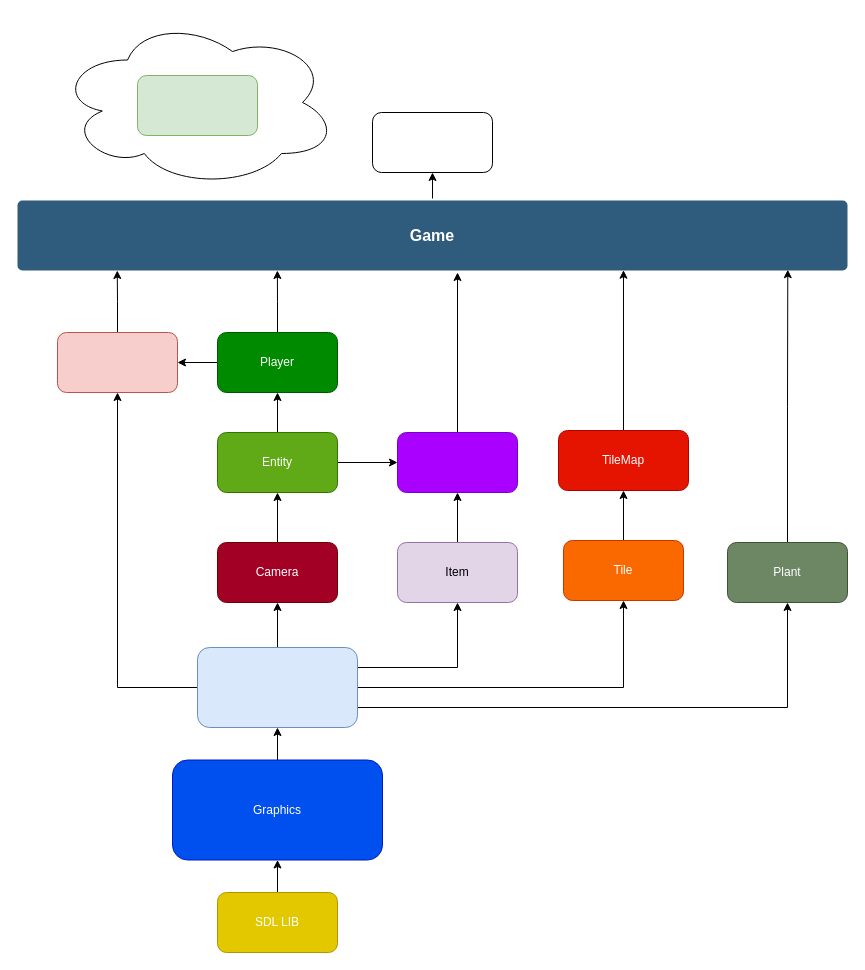
Some shapes in this 865 by 970 pixel diagram are drawn without their labels. The shapes that lost their labels are listed below. From the top down, each one's centre as x and y in pixels, then its label:
At [197,105]: "Funclib".
At [432,142]: "Main".
At [117,362]: "GUI".
At [457,462]: "DroppedItem".
At [277,687]: "Drawable".
